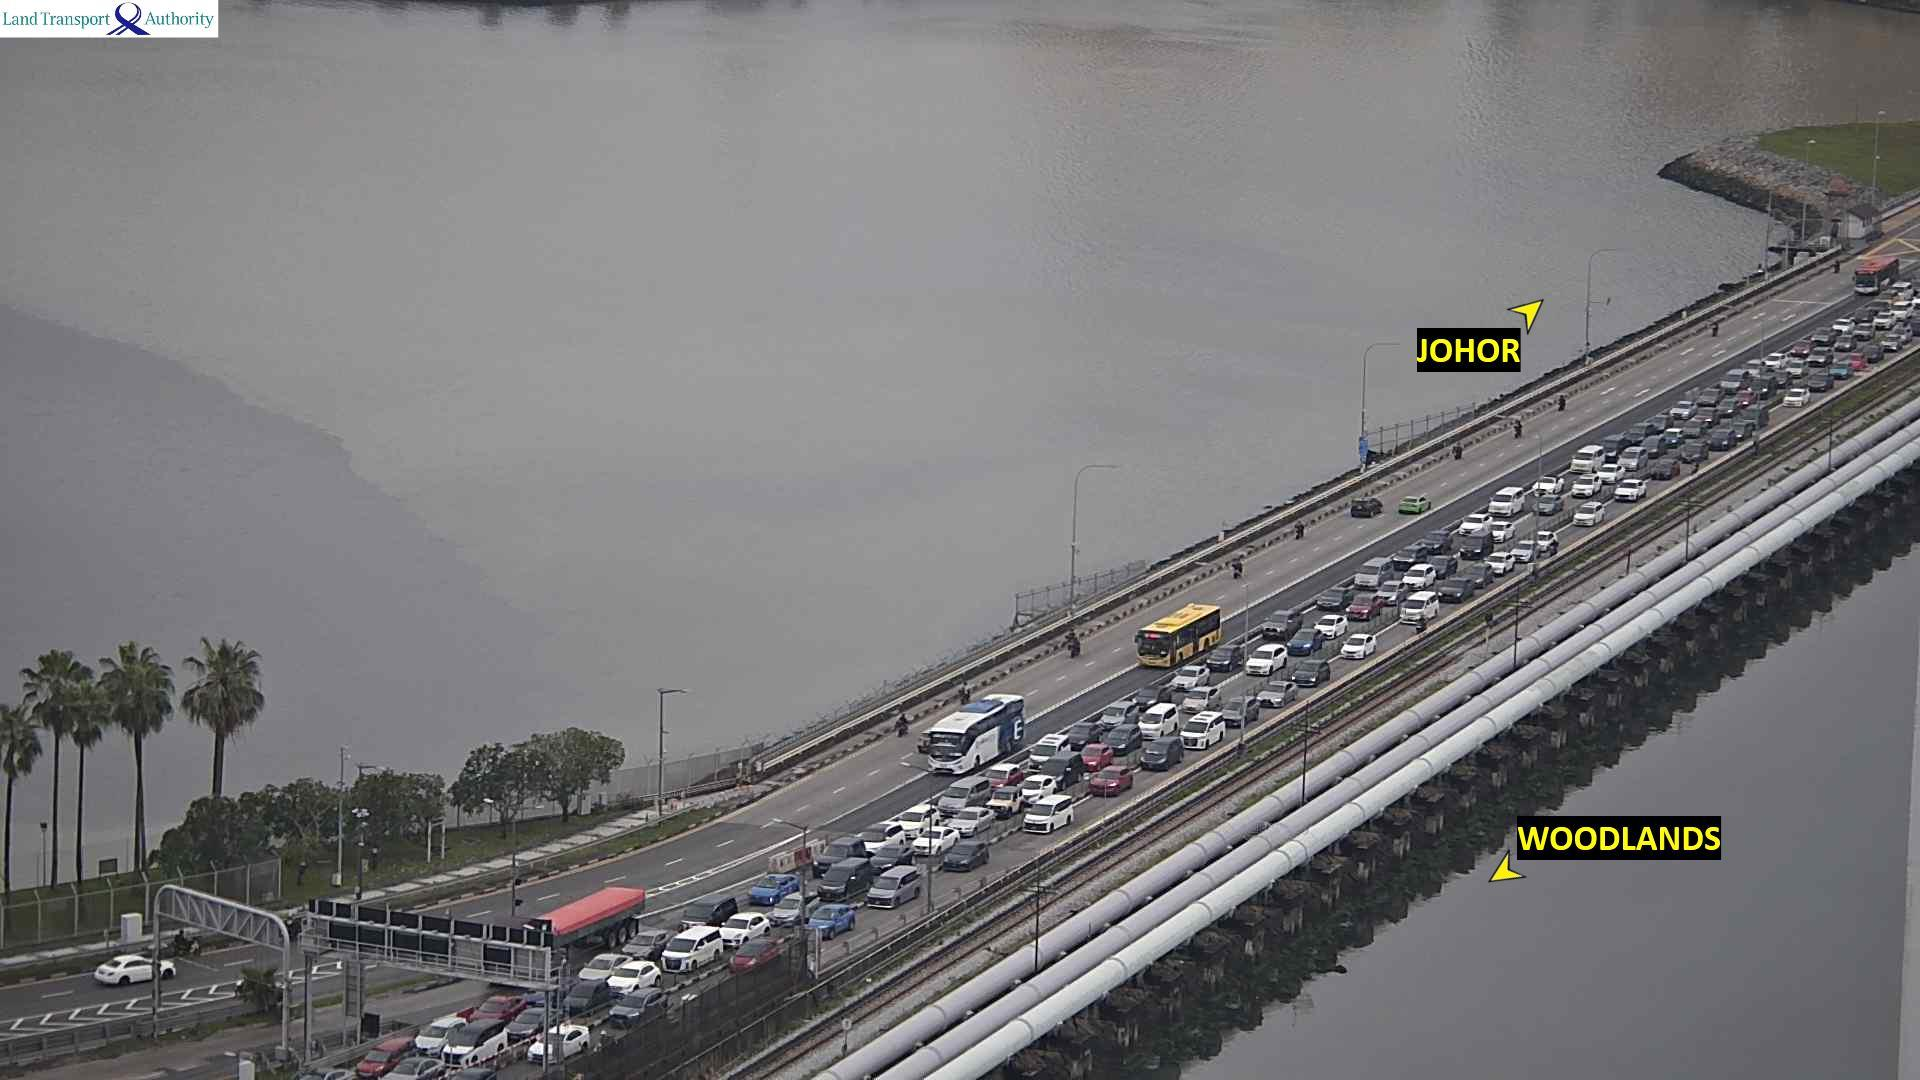vehicle-causeway-johor: (92, 954, 175, 984), (1350, 494, 1378, 519), (1398, 492, 1428, 513), (1067, 629, 1080, 655), (1231, 553, 1244, 576), (1452, 439, 1466, 458), (896, 710, 905, 739), (1290, 517, 1303, 537), (958, 681, 970, 700), (1511, 419, 1521, 440), (1709, 319, 1718, 338), (1830, 259, 1840, 276), (1557, 392, 1565, 410)
vehicle-causeway-singapore: (481, 885, 647, 955), (923, 700, 1029, 771), (1137, 609, 1224, 668), (812, 863, 890, 904), (657, 930, 722, 972), (445, 1021, 504, 1064), (351, 1039, 417, 1077), (1856, 257, 1915, 297), (606, 989, 671, 1023), (1020, 798, 1079, 833), (532, 1025, 587, 1060), (939, 774, 987, 812), (732, 935, 784, 970), (815, 837, 863, 874), (744, 877, 805, 906), (585, 962, 658, 986), (503, 1007, 556, 1038), (864, 879, 918, 908), (946, 811, 1004, 838), (809, 903, 860, 933), (1181, 712, 1223, 747), (687, 895, 741, 922), (473, 995, 525, 1022), (1137, 744, 1187, 772), (1082, 769, 1135, 795), (1401, 561, 1454, 587), (939, 843, 991, 869), (909, 829, 963, 854), (721, 914, 766, 944), (383, 1057, 440, 1080), (609, 962, 655, 990), (564, 979, 605, 1010), (1170, 663, 1218, 689), (855, 822, 903, 848), (1354, 563, 1401, 589), (1245, 648, 1289, 675), (775, 895, 819, 922), (1140, 704, 1178, 735), (952, 807, 996, 833), (1031, 734, 1067, 765), (900, 805, 937, 834), (1045, 753, 1082, 781), (1286, 661, 1330, 684), (1183, 686, 1220, 712), (1509, 537, 1554, 558), (1105, 725, 1142, 750), (1402, 593, 1435, 621), (1488, 492, 1528, 515), (1338, 633, 1376, 657), (1225, 697, 1256, 725), (1290, 627, 1323, 653), (1253, 689, 1298, 708), (1315, 593, 1360, 612), (1020, 775, 1054, 800), (985, 787, 1020, 811), (1098, 702, 1133, 726), (1258, 621, 1304, 639), (1571, 445, 1602, 471), (1606, 484, 1649, 502), (1345, 601, 1393, 617), (1572, 509, 1610, 529), (1069, 721, 1099, 745), (1134, 685, 1170, 705), (1410, 537, 1451, 554), (1436, 578, 1469, 599), (1618, 447, 1648, 470), (1316, 618, 1354, 636), (1726, 366, 1752, 392), (1460, 542, 1500, 558), (1459, 515, 1491, 535), (1081, 746, 1108, 769), (442, 1069, 498, 1080), (1405, 566, 1435, 586), (1378, 580, 1404, 603), (1740, 404, 1763, 430), (1534, 474, 1561, 496), (1639, 436, 1664, 459), (1573, 474, 1599, 496), (1533, 498, 1571, 513), (1465, 563, 1492, 584), (1486, 521, 1517, 539), (1802, 350, 1836, 366), (1754, 376, 1778, 398), (1707, 430, 1734, 449), (1602, 436, 1625, 457), (1683, 441, 1707, 461), (1651, 459, 1676, 478), (1660, 427, 1682, 447), (1806, 374, 1831, 391), (1785, 389, 1808, 407), (1431, 558, 1456, 574), (1846, 353, 1871, 369), (1599, 465, 1623, 481), (1859, 307, 1881, 324), (1833, 337, 1859, 351), (1726, 423, 1750, 438), (1891, 304, 1913, 319), (1673, 399, 1690, 418), (1699, 392, 1719, 408), (1763, 354, 1784, 369), (1815, 328, 1832, 346), (1855, 323, 1873, 340), (1835, 318, 1853, 335), (1875, 312, 1893, 329), (1826, 366, 1849, 379), (1718, 399, 1735, 416), (1794, 340, 1810, 357), (1788, 361, 1805, 376), (1888, 328, 1910, 339), (1865, 343, 1880, 358), (1885, 336, 1900, 350), (1684, 422, 1700, 435), (1869, 301, 1888, 311)
